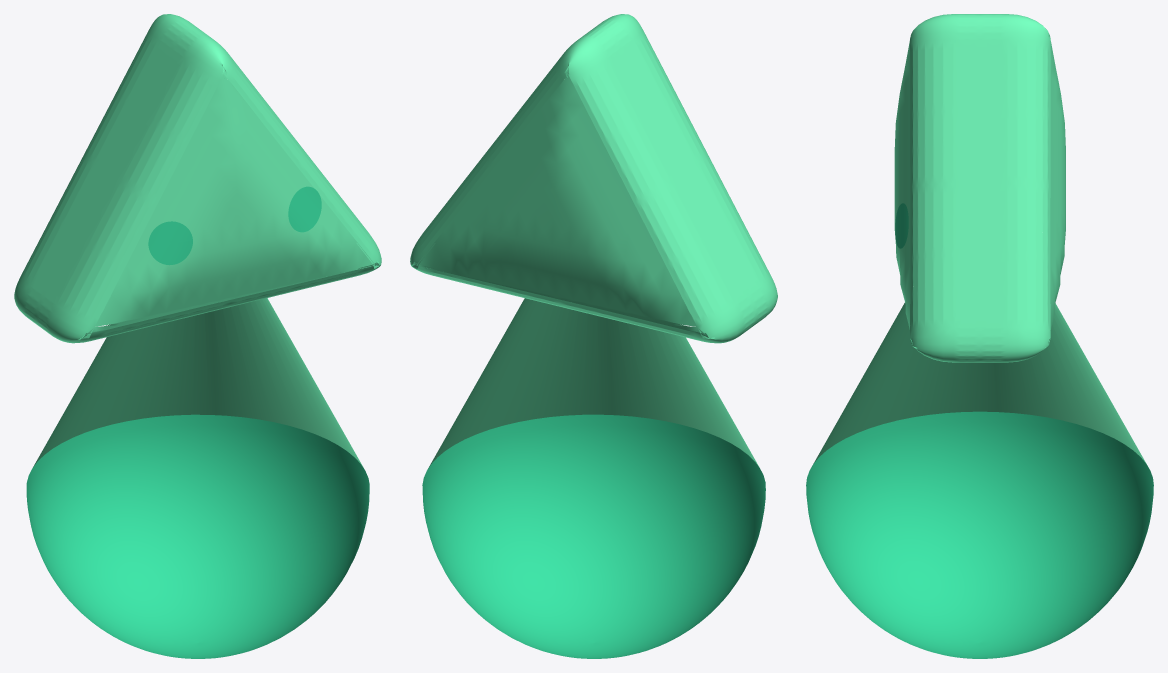
The model's file is cone-triangle-mint.glb.
3 renders of one model, left to right at view 1: azimuth 30°, elevation 25°; view 2: azimuth 150°, elevation 25°; view 3: azimuth 270°, elevation 25°, orthographic.
Parts seen in each view (by area): view 1: bowl, head-shell, cone, eye (×2); view 2: head-shell, bowl, cone; view 3: bowl, head-shell, cone, eye.
Part boxes in pixels (x1,y1,x2,y2): bowl: [26, 414, 369, 658]; head-shell: [14, 14, 381, 343]; cone: [33, 298, 363, 467]; eye (×2): [148, 186, 321, 265]; head-shell: [410, 14, 777, 343]; bowl: [422, 414, 765, 658]; cone: [428, 298, 759, 468]; bowl: [806, 411, 1153, 658]; head-shell: [894, 14, 1065, 362]; cone: [813, 303, 1146, 463]; eye: [895, 203, 908, 248].
Size of the model in its own units: 1.09 by 1.98 by 1.
